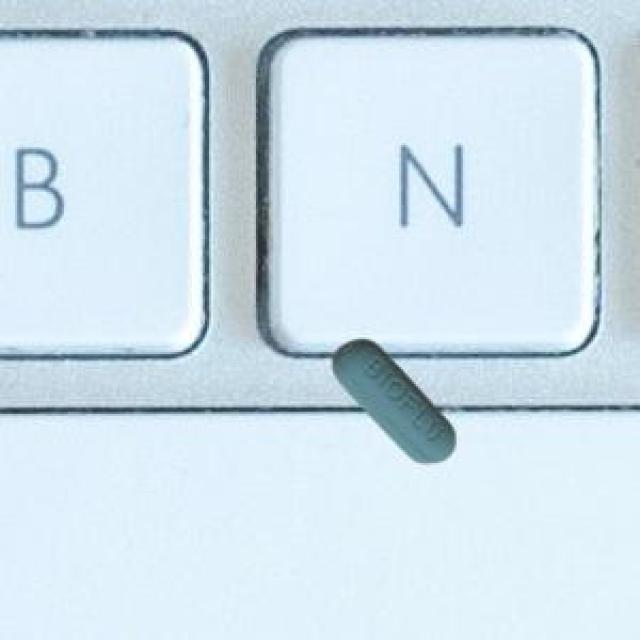Bioflu: (325, 328, 468, 470)
